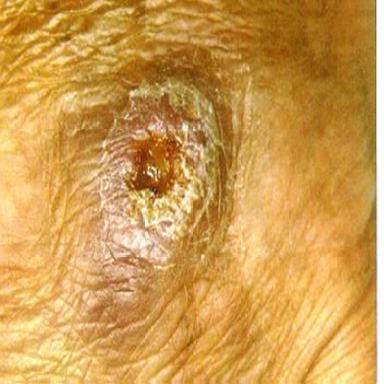Leishmanios: (100, 80, 219, 267)
